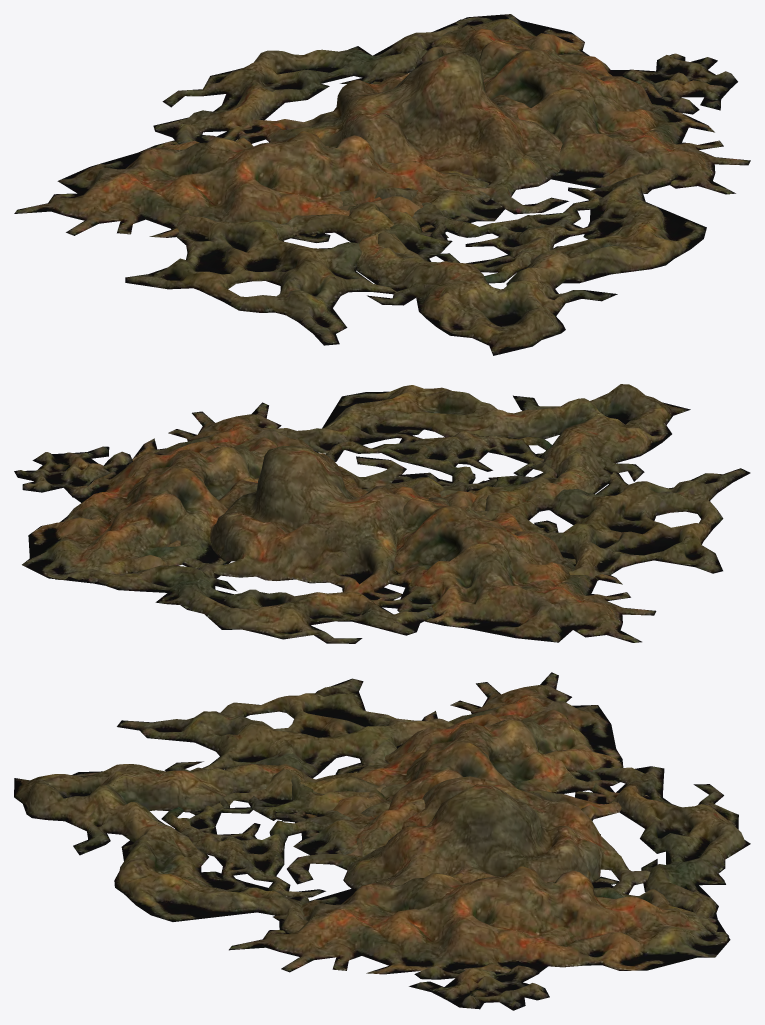
The model's file is Biomass - Gathered BF 5-BBIiEsbY.glb.
The picture shows the model from 3 angles, top to bottom: view 1: azimuth 30°, elevation 25°; view 2: azimuth 150°, elevation 25°; view 3: azimuth 270°, elevation 25°; orthographic projection. The views are drawn at different scales.
Visible parts, largest first — view 1: BiomassGathBF_5; view 2: BiomassGathBF_5; view 3: BiomassGathBF_5.
Part boxes in pixels (<box>): BiomassGathBF_5: <box>14,14,750,355</box>; BiomassGathBF_5: <box>14,384,750,643</box>; BiomassGathBF_5: <box>14,672,750,1010</box>.
Bounding box in the file's own units: 5.32 × 0.6076 × 4.89.
Materials: 2 (2 with a texture image).
